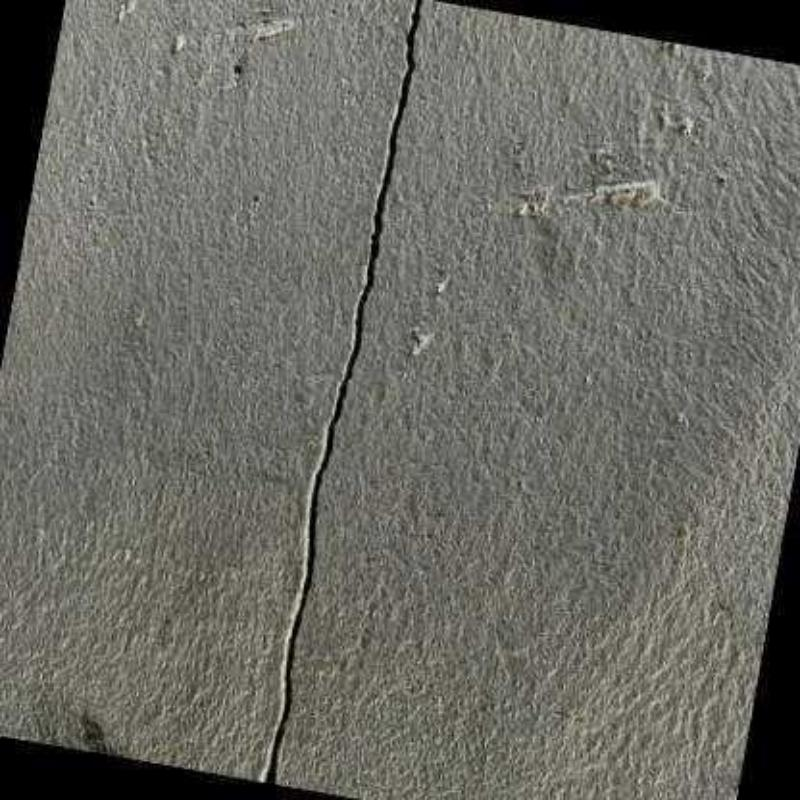crack: (255, 0, 425, 780)
